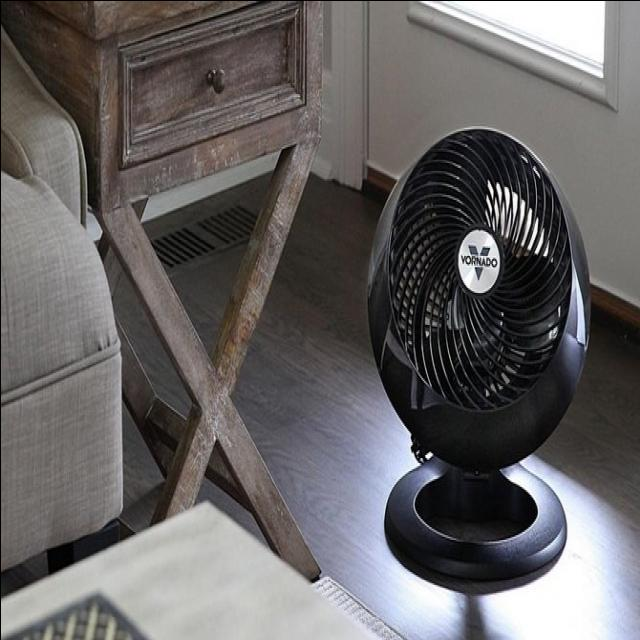fan: (369, 123, 592, 599)
